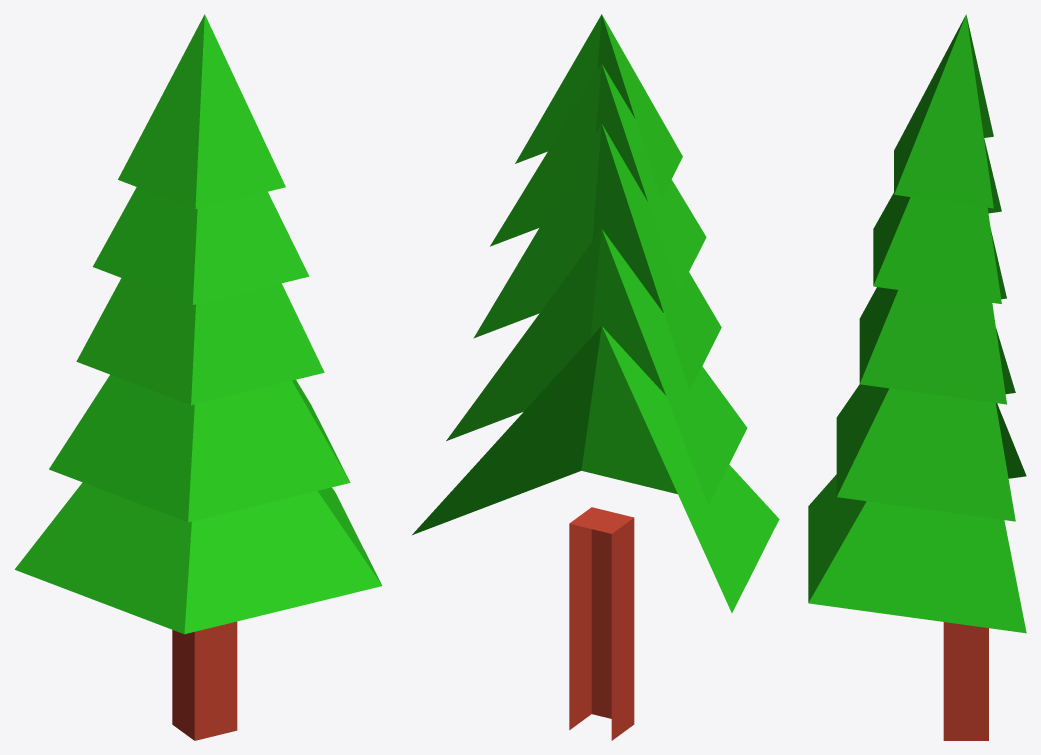
File: pointedtreev3.fbx
3 views of the same model, side by side, from view 1: azimuth 30°, elevation 25°; view 2: azimuth 150°, elevation 25°; view 3: azimuth 270°, elevation 25° (orthographic).
Visible parts, largest first — view 1: Cone, Cone.001, Cone.002, Cone.003, Cone.004, Cube; view 2: Cone, Cone.001, Cone.002, Cube, Cone.003, Cone.004; view 3: Cone, Cone.001, Cone.002, Cone.004, Cone.003, Cube.
Part boxes in pixels (bbox=[...]): Cone: bbox=[15, 482, 382, 634]; Cone.001: bbox=[49, 374, 350, 522]; Cone.002: bbox=[76, 278, 324, 405]; Cone.003: bbox=[93, 187, 309, 304]; Cone.004: bbox=[118, 14, 285, 209]; Cube: bbox=[172, 621, 237, 740]; Cone: bbox=[412, 326, 779, 612]; Cone.001: bbox=[446, 229, 747, 504]; Cone.002: bbox=[473, 124, 721, 390]; Cube: bbox=[569, 507, 634, 740]; Cone.003: bbox=[490, 64, 706, 292]; Cone.004: bbox=[515, 14, 682, 199]; Cone: bbox=[808, 403, 1026, 633]; Cone.001: bbox=[836, 328, 1015, 521]; Cone.002: bbox=[859, 230, 1006, 404]; Cone.004: bbox=[894, 14, 993, 208]; Cone.003: bbox=[873, 136, 1001, 303]; Cube: bbox=[943, 622, 988, 740].
Bounding box in the file's own units: 296 × 629 × 174.
